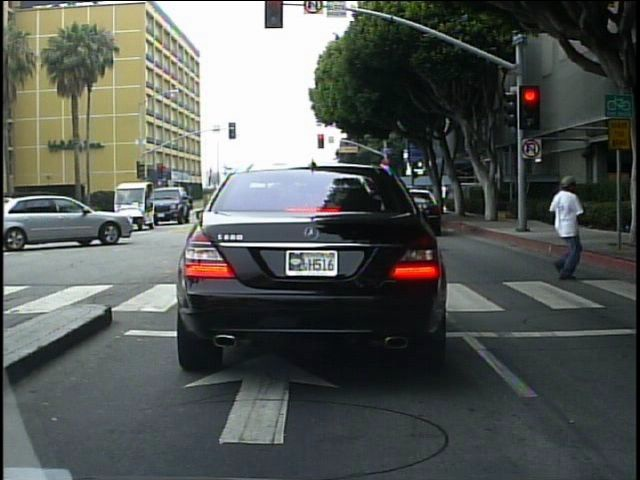person: (544, 167, 590, 283), (632, 166, 638, 294), (438, 179, 453, 213)
